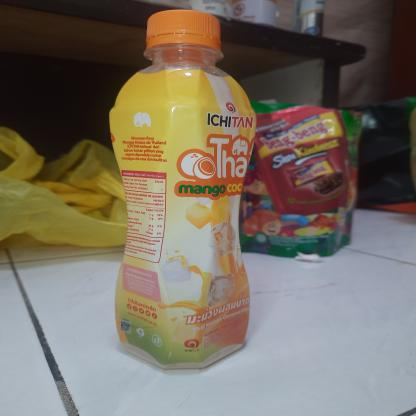bottle: (98, 3, 256, 378)
